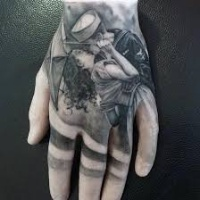ring: (107, 113, 134, 199)
